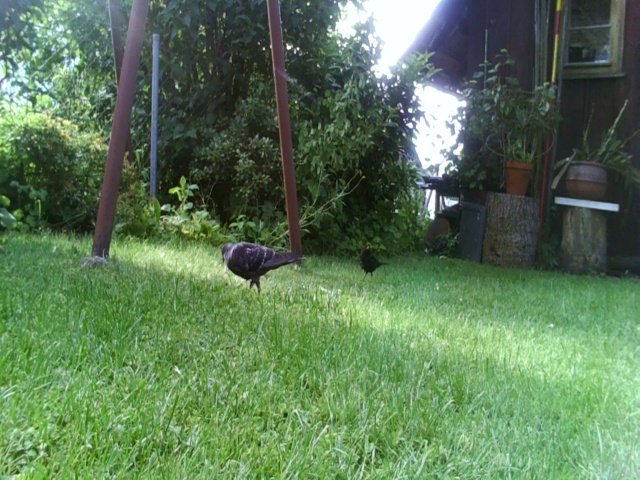Pigeon: (215, 235, 303, 296)
